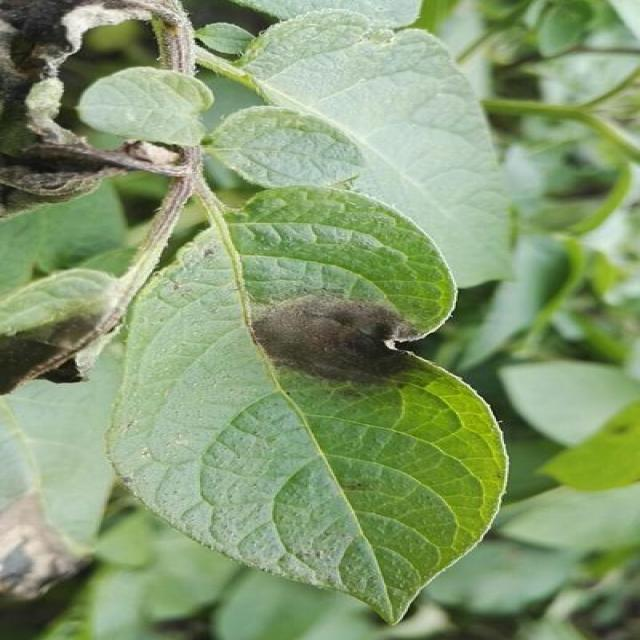Healthy Leaf: (79, 65, 229, 154), (210, 110, 362, 189)
